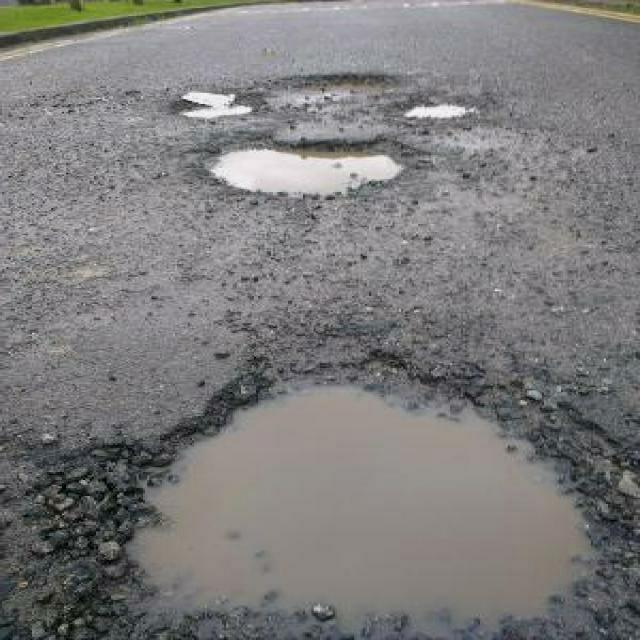Pothole: (47, 341, 634, 638), (196, 134, 422, 195), (267, 70, 412, 96), (175, 83, 258, 118), (399, 94, 486, 122)
